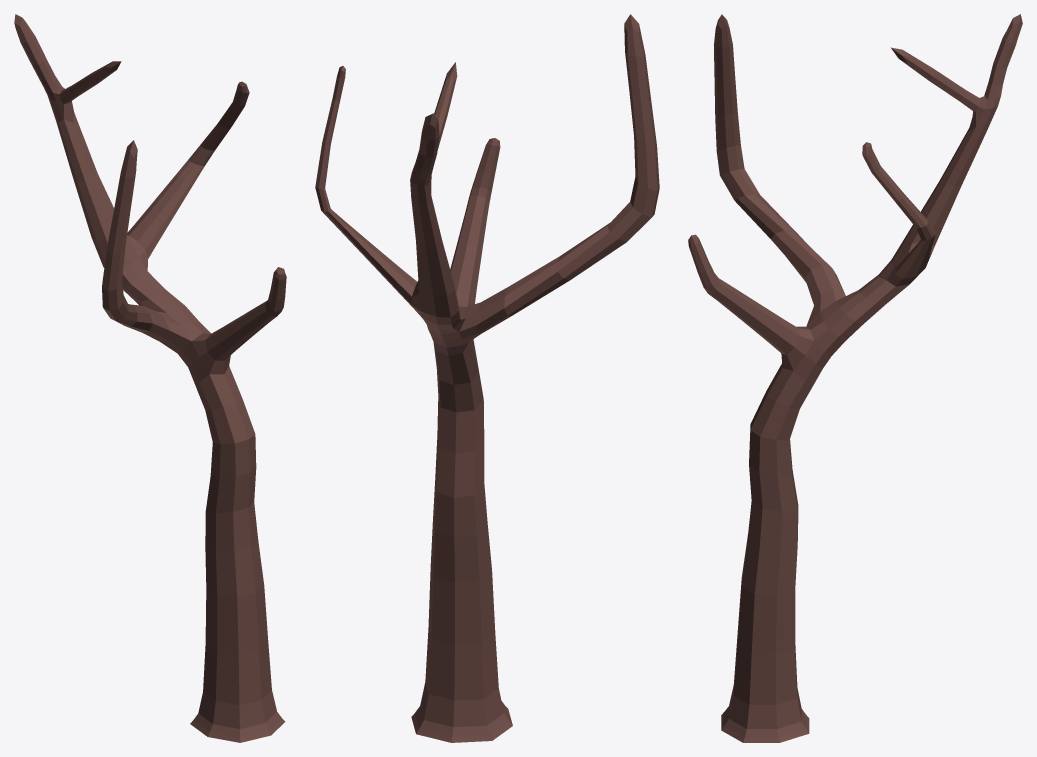
File: CommonTree_Dead_4-optimized.glb
3 renders of one model, left to right at view 1: azimuth 30°, elevation 25°; view 2: azimuth 150°, elevation 25°; view 3: azimuth 270°, elevation 25°, orthographic. The views are drawn at different scales.
Visible parts, largest first — view 1: CommonTree_Dead_4; view 2: CommonTree_Dead_4; view 3: CommonTree_Dead_4.
Boxes of the visible parts, bbox=[...] form: CommonTree_Dead_4: bbox=[14, 14, 286, 742]; CommonTree_Dead_4: bbox=[315, 14, 659, 742]; CommonTree_Dead_4: bbox=[688, 14, 1022, 742].
Bounding box in the file's own units: 1.81 × 5.25 × 2.4.
